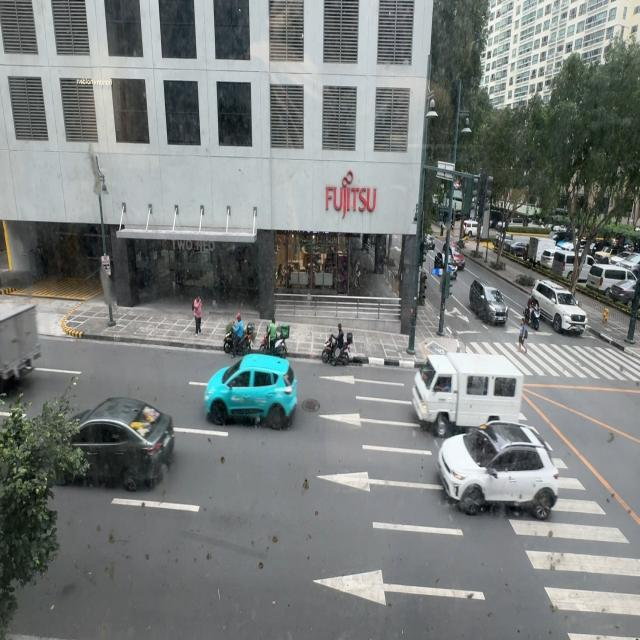crossing: (518, 318, 528, 353)
pedestrain: (193, 295, 202, 336)
